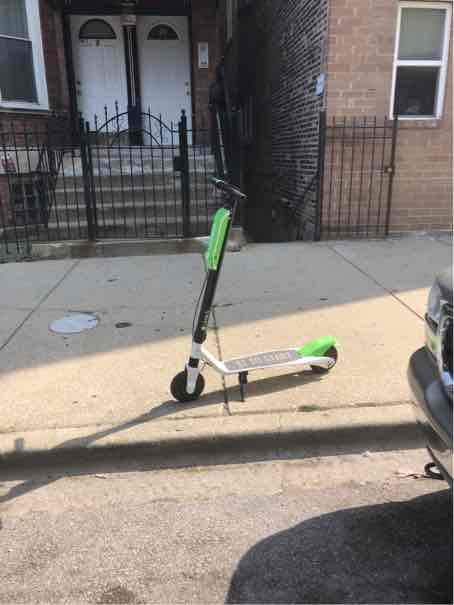scooter: (170, 175, 348, 423)
